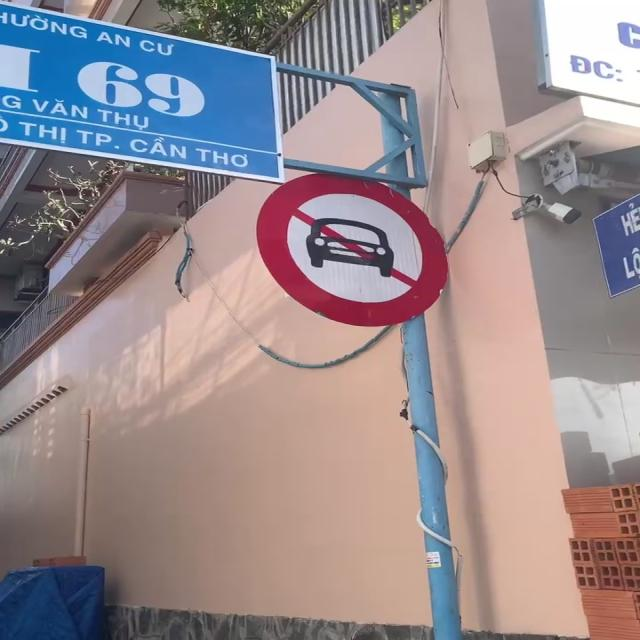Cam_O_To: (256, 171, 449, 328)
